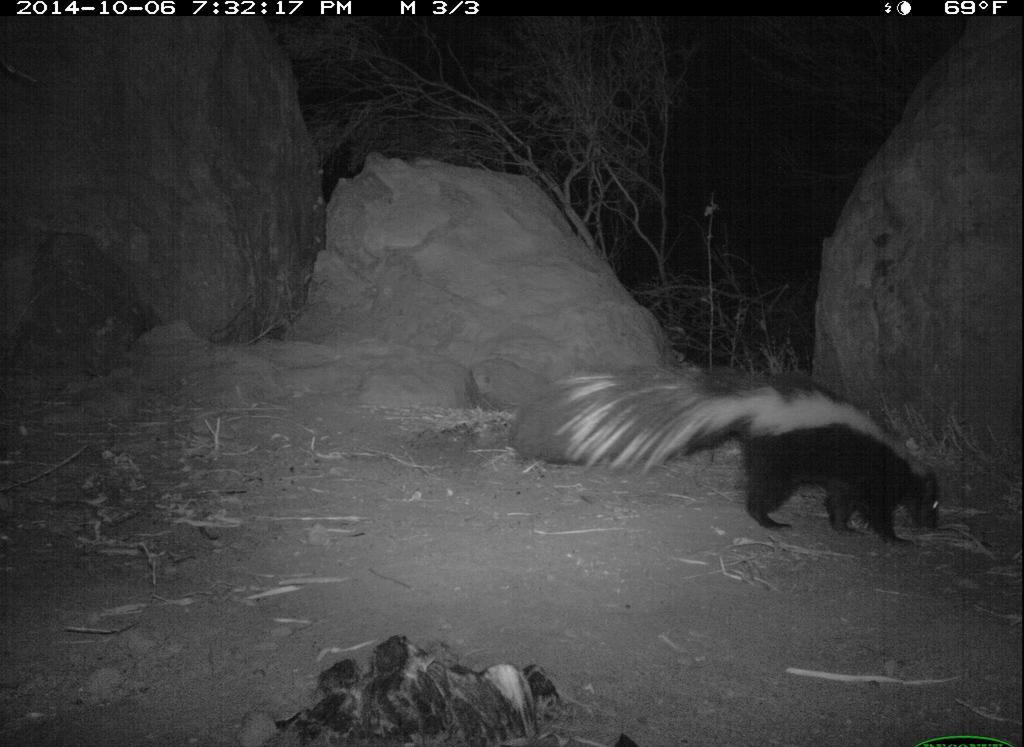skunk: (510, 356, 958, 556)
